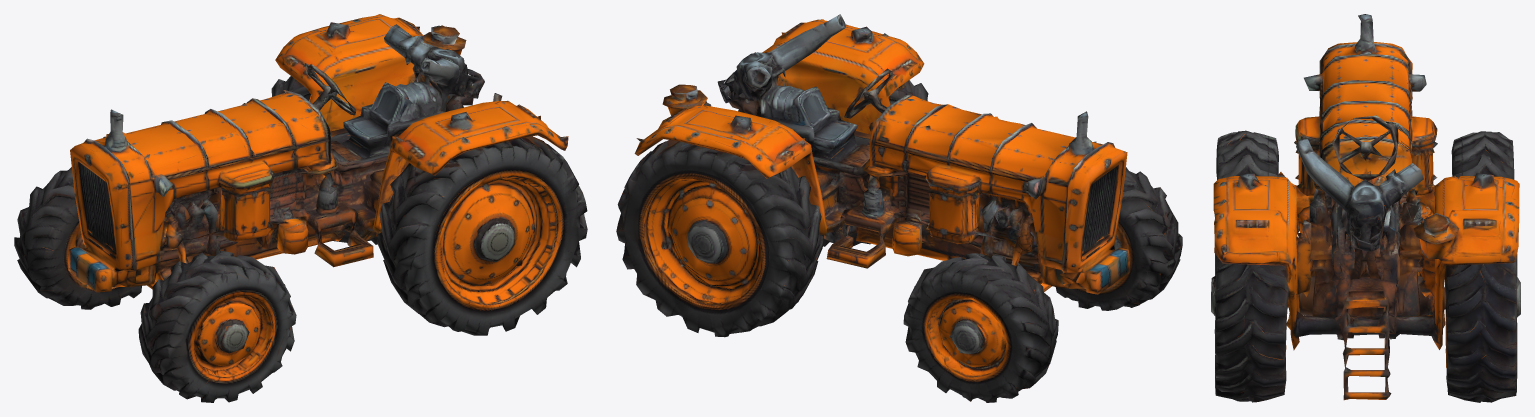
File: siege.glb
The picture shows the model from 3 angles, left to right: view 1: azimuth 30°, elevation 25°; view 2: azimuth 150°, elevation 25°; view 3: azimuth 270°, elevation 25°; orthographic projection. The views are drawn at different scales.
Parts seen in each view (by area): view 1: Mesh_0; view 2: Mesh_0; view 3: Mesh_0.
Part boxes in pixels (left/top/right/bottom): Mesh_0: left=14, top=14, right=587, bottom=402; Mesh_0: left=616, top=14, right=1182, bottom=402; Mesh_0: left=1211, top=14, right=1520, bottom=402.
Bounding box in the file's own units: 1.91 × 1.08 × 1.24.
Materials: 1 (1 with a texture image).
